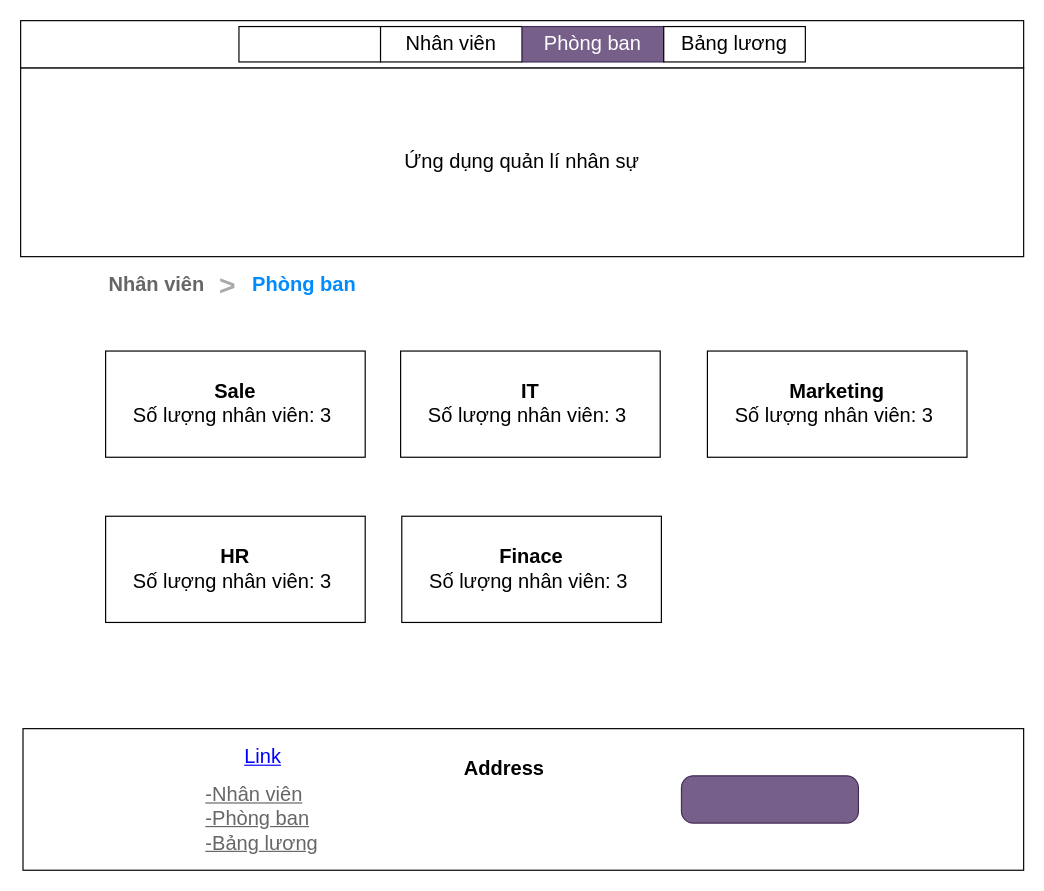
Image size: 1044x891. Some labels were removed from this diagram. The centre of each missing label's shape, as x and y in pixels:
Logo: point 309,43
Social Network: point 769,799
